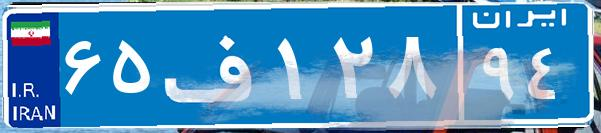1: (273, 28, 330, 110)
2: (330, 28, 385, 110)
4: (525, 38, 570, 115)
5: (110, 28, 158, 105)
6: (57, 26, 110, 107)
8: (385, 28, 445, 110)
9: (475, 38, 525, 113)
ف: (158, 15, 273, 115)
